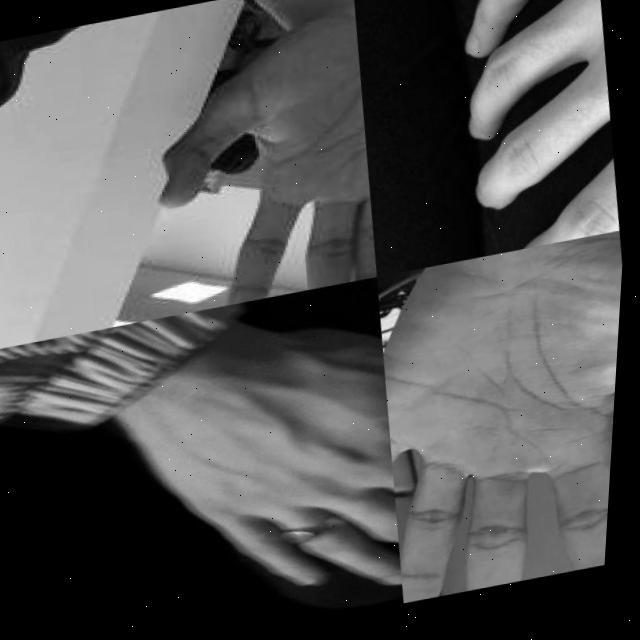no-gloves: (95, 298, 423, 635), (365, 237, 628, 610), (337, 0, 635, 283), (134, 10, 394, 321)
